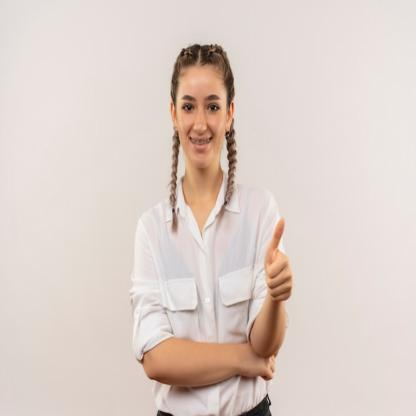thumb_up: (262, 214, 298, 307)
